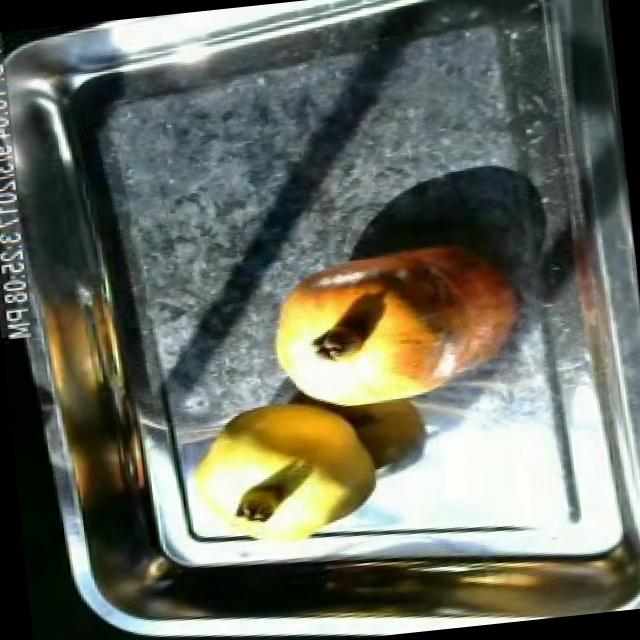fruit: (254, 233, 516, 420), (172, 380, 395, 559)
